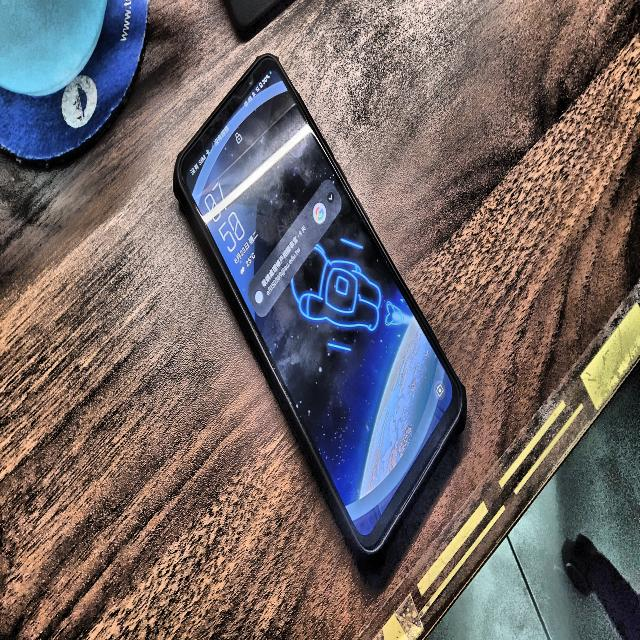PHONE: (173, 55, 466, 554)
